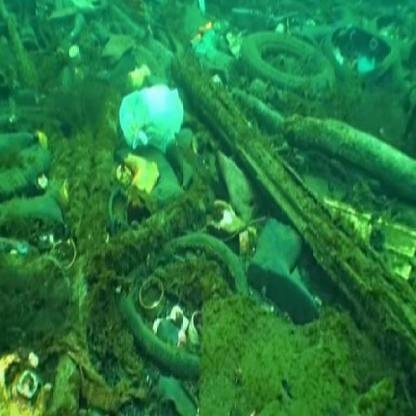plastic: (104, 85, 194, 173)
rod: (180, 69, 398, 342)
